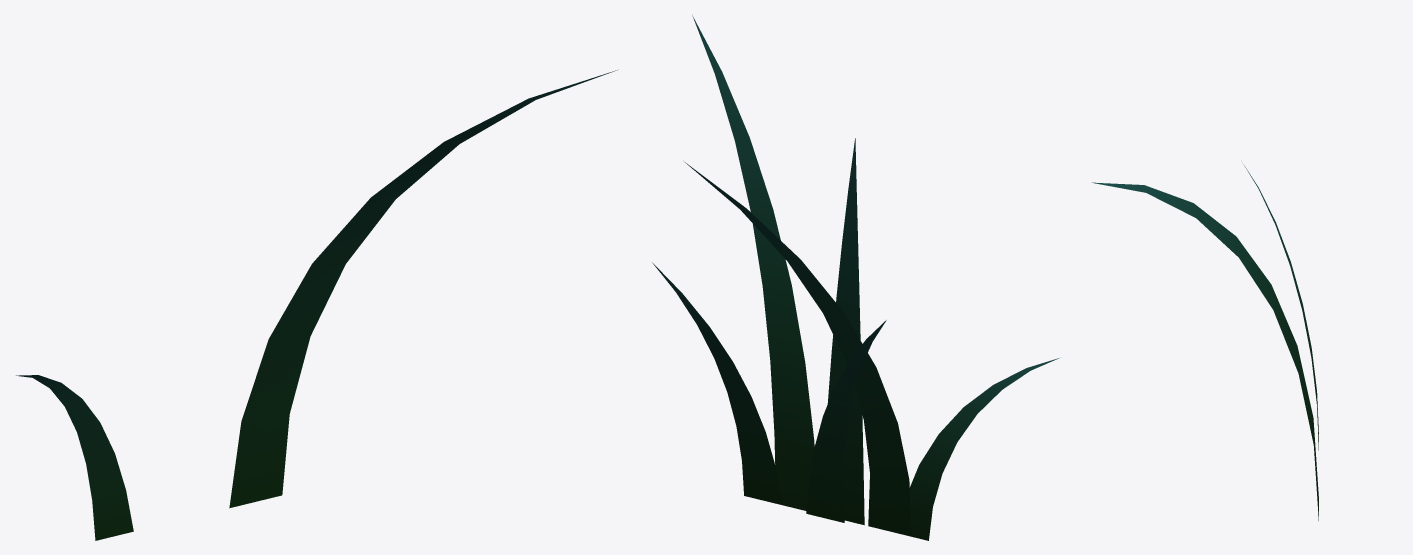
Rendered from GrassClumpNight.fbx.
The picture shows the model from 3 angles, left to right: view 1: azimuth 30°, elevation 25°; view 2: azimuth 150°, elevation 25°; view 3: azimuth 270°, elevation 25°; orthographic projection. The views are drawn at different scales.
Parts seen in each view (by area): view 1: GrassClumpNight; view 2: GrassClumpNight; view 3: GrassClumpNight.
Part boxes in pixels (<box>): GrassClumpNight: <box>16,69,618,540</box>; GrassClumpNight: <box>652,15,1059,540</box>; GrassClumpNight: <box>1092,164,1318,520</box>.
Bounding box in the file's own units: 99.11 × 85.11 × 51.57.
